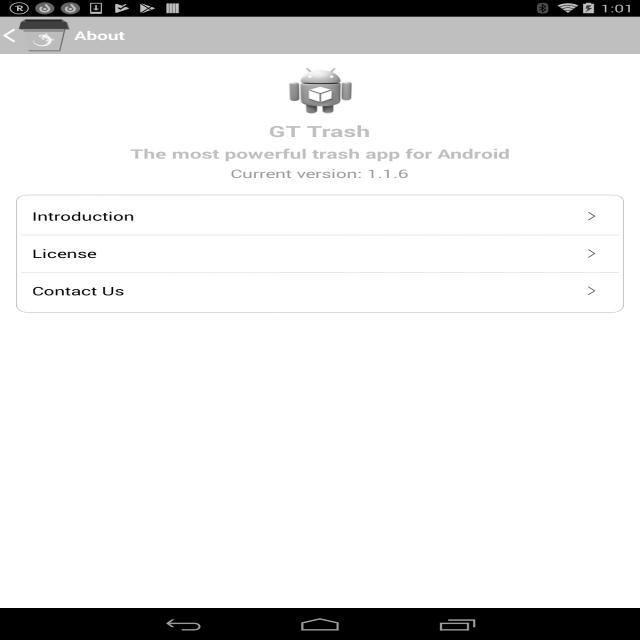ImageView: (281, 66, 366, 112), (17, 18, 70, 50)
TextView: (125, 145, 524, 180), (28, 279, 138, 304), (30, 206, 147, 227), (257, 120, 373, 138), (32, 246, 111, 261), (76, 27, 130, 43)
